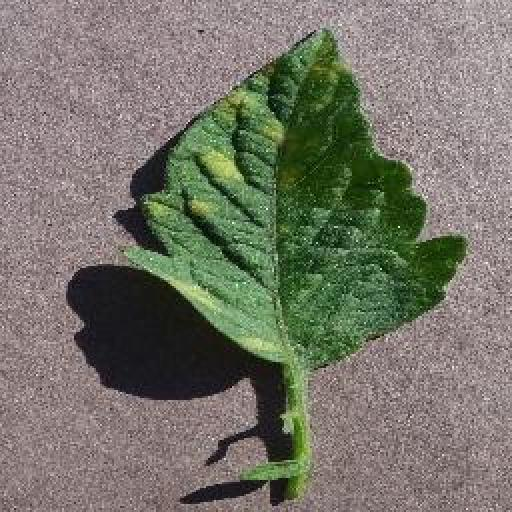disease_tomato: (118, 25, 468, 371)
